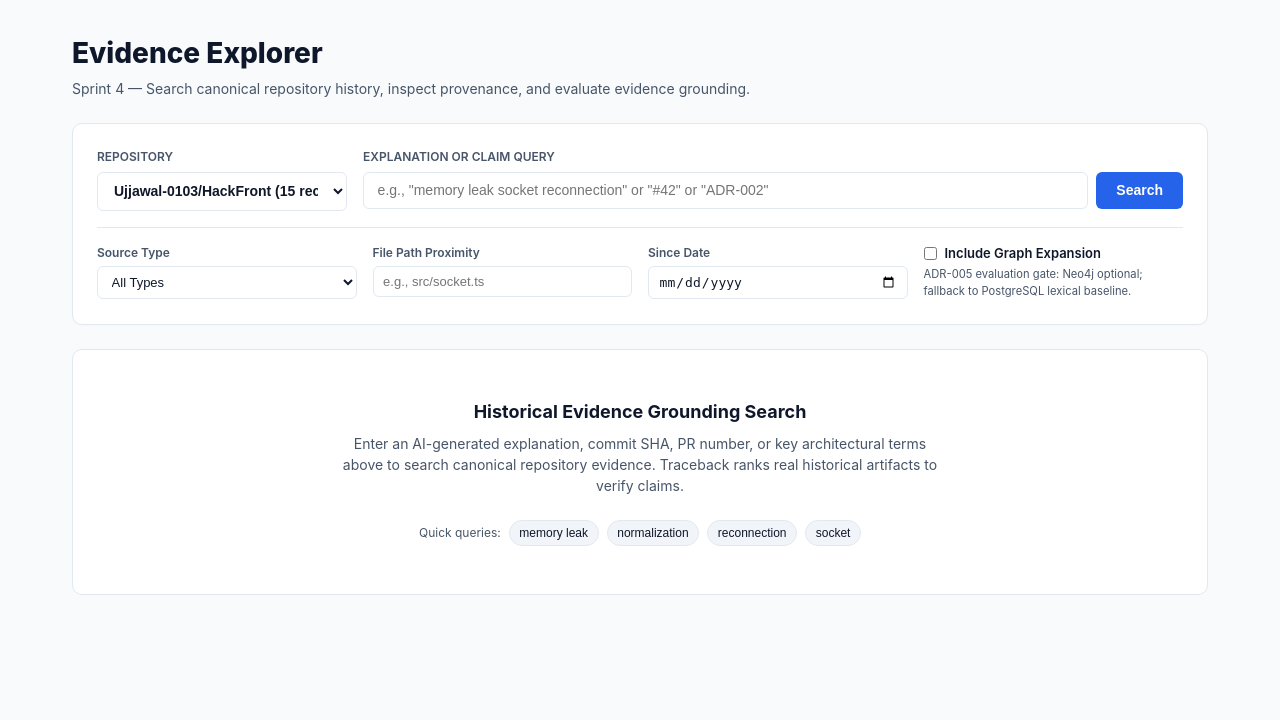
EvidencePage (Sprint 4) › opens inspect modal when Inspect Record button is clicked
This screenshot has width=1280, height=720.
Replace the text in the field with placeholder "memory leak socket reconnection" with "socket leak": coordinates (726, 190) [363,172,1088,209]
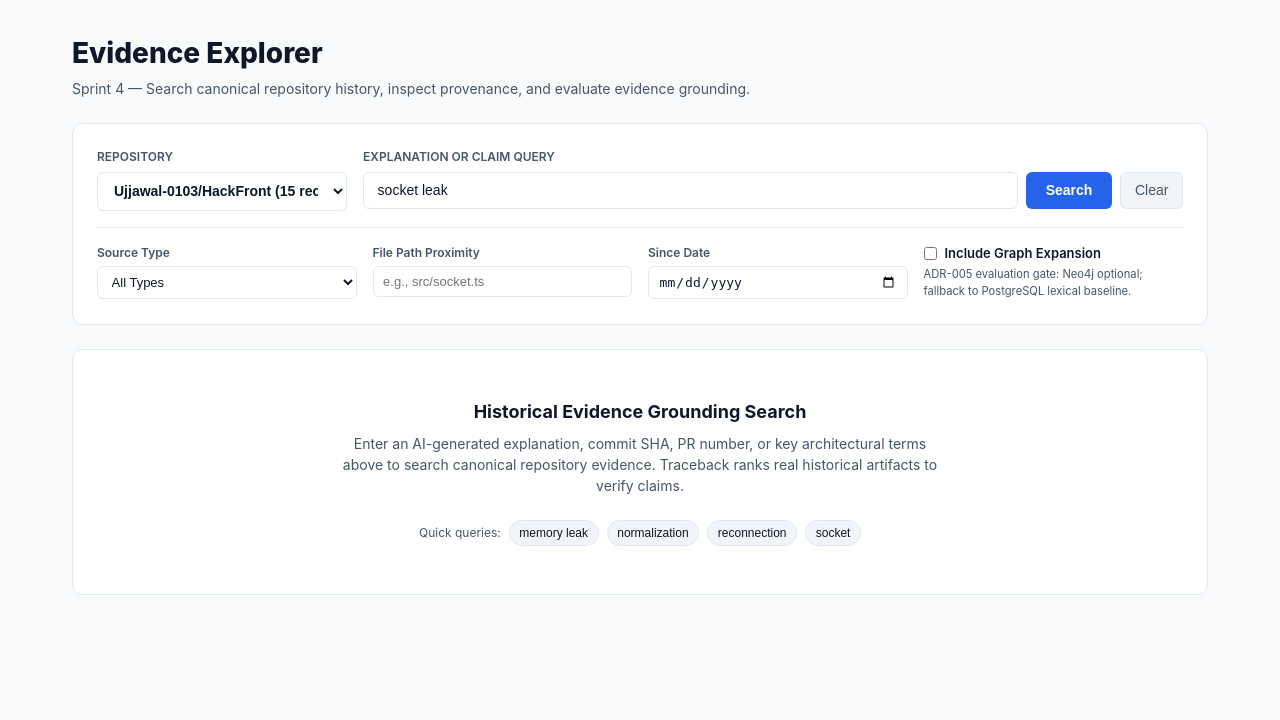
Click the button "Search": coordinates (1069, 190) [1026,172,1112,209]
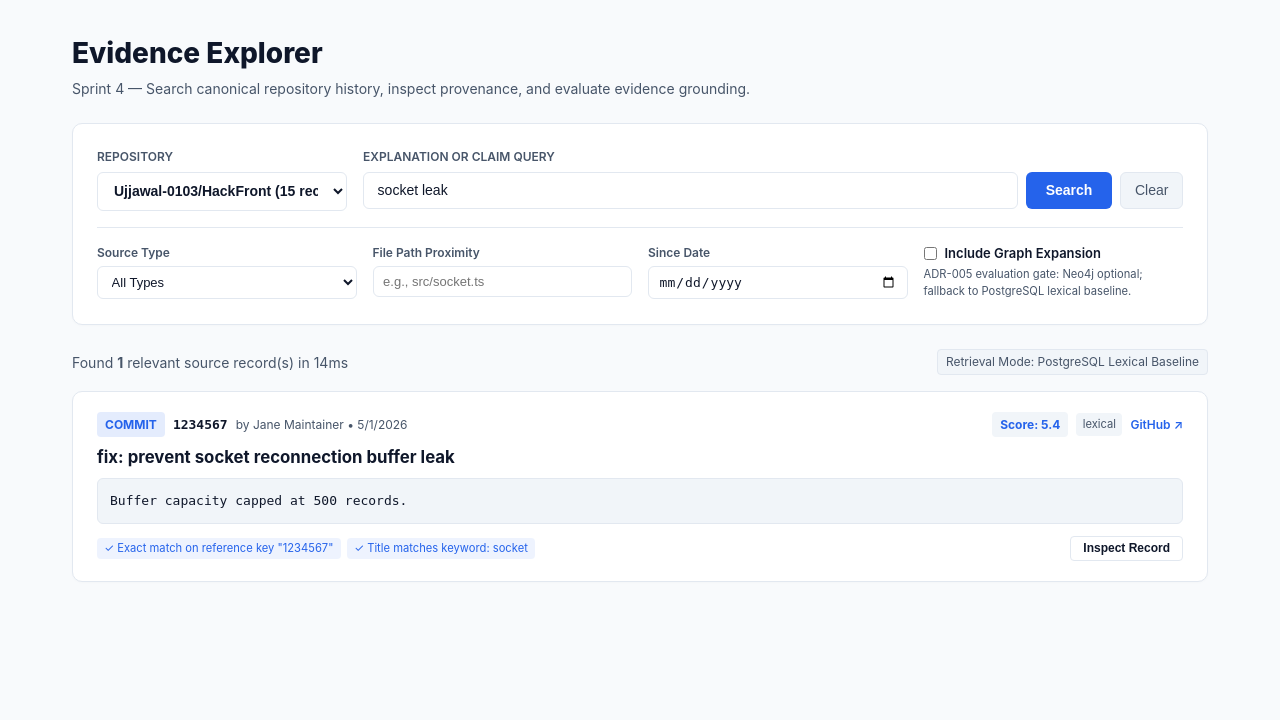
Now the heading "fix: prevent socket reconnection buffer leak" is shown, box [97,447,455,467]
Click the button "Inspect Record": coordinates (1127, 548) [1070,536,1183,561]
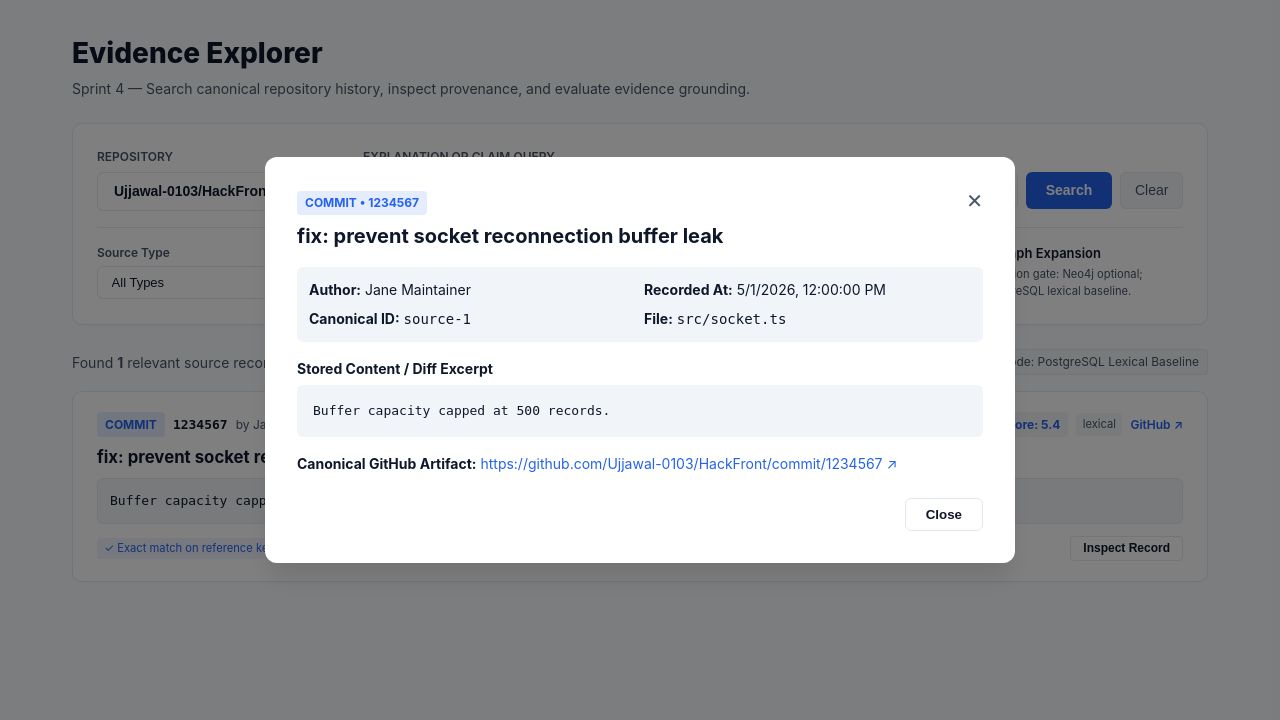
Now the text "Canonical GitHub Artifact:" is shown, box [297,455,476,472]
Now the text "Jane Maintainer" is shown, box [365,281,471,298]
